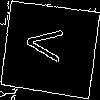V: (25, 24, 72, 65)
